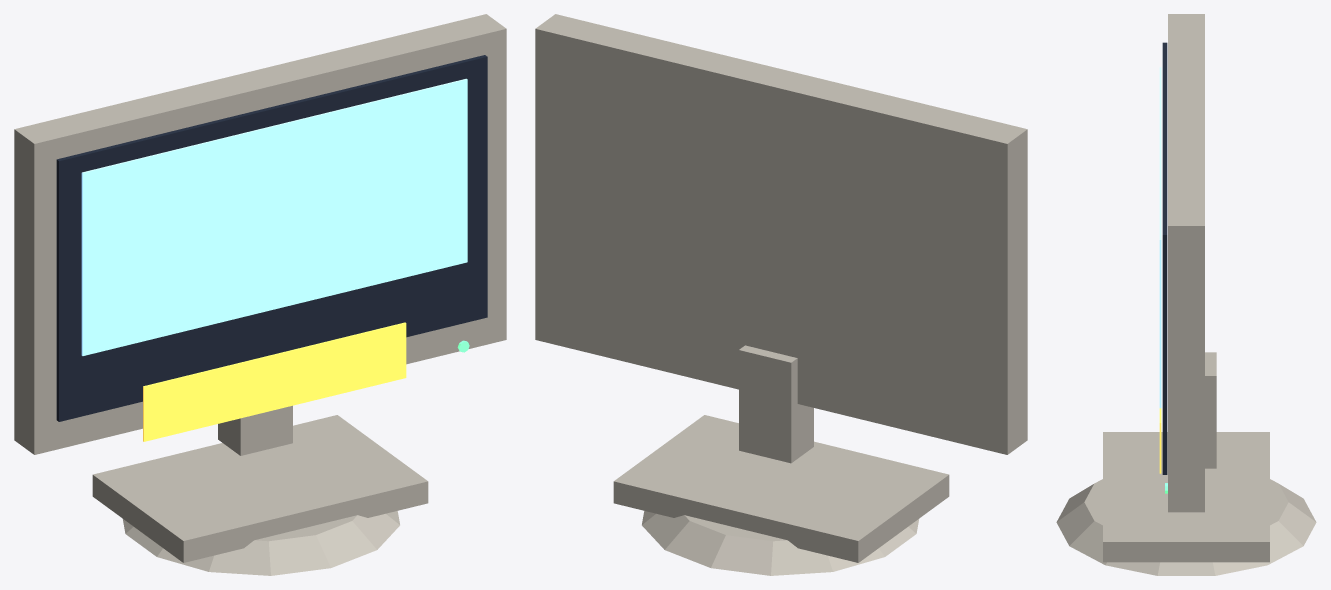
Rendered from monitor.glb.
The picture shows the model from 3 angles, left to right: view 1: azimuth 30°, elevation 25°; view 2: azimuth 150°, elevation 25°; view 3: azimuth 270°, elevation 25°; orthographic projection. The views are drawn at different scales.
Visible parts, largest first — view 1: monitor; view 2: monitor; view 3: monitor.
Boxes of the visible parts, bbox=[...] form: monitor: bbox=[14, 14, 506, 575]; monitor: bbox=[535, 14, 1027, 575]; monitor: bbox=[1056, 14, 1316, 575].
Size of the model in its own units: 0.54 by 0.478 by 0.28.
